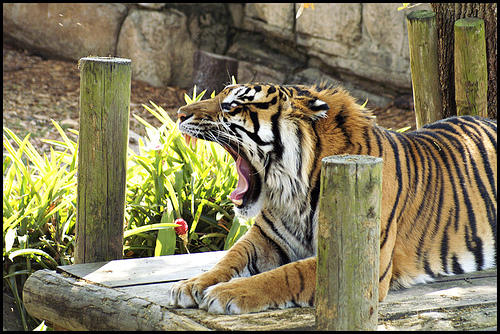Tigre: (195, 67, 497, 298)
